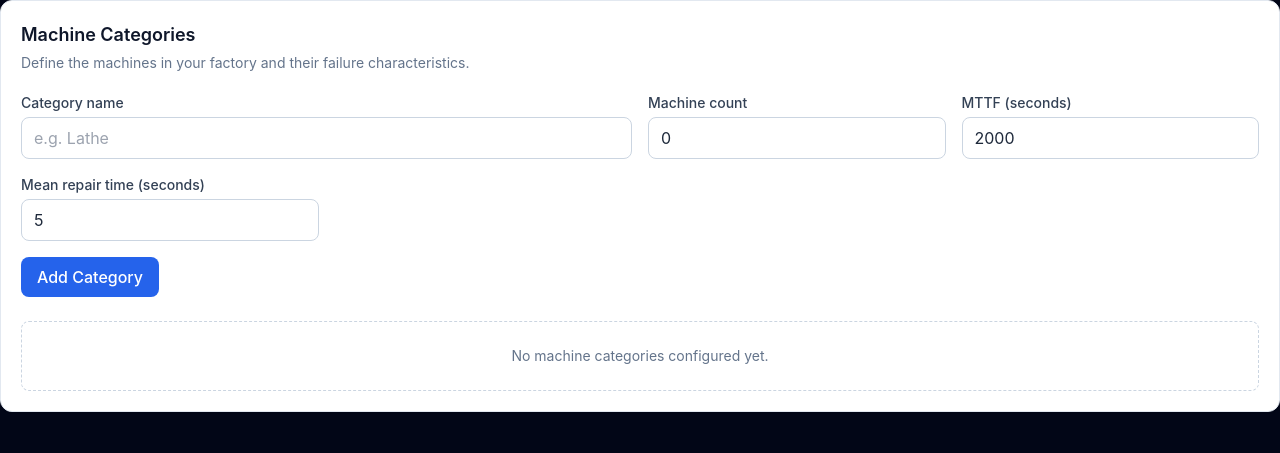
CategoryForm › rejects a non-positive MTTF
Type "Lathe" into the field labelled "Category name" at point(326, 138), box [21, 117, 632, 159]
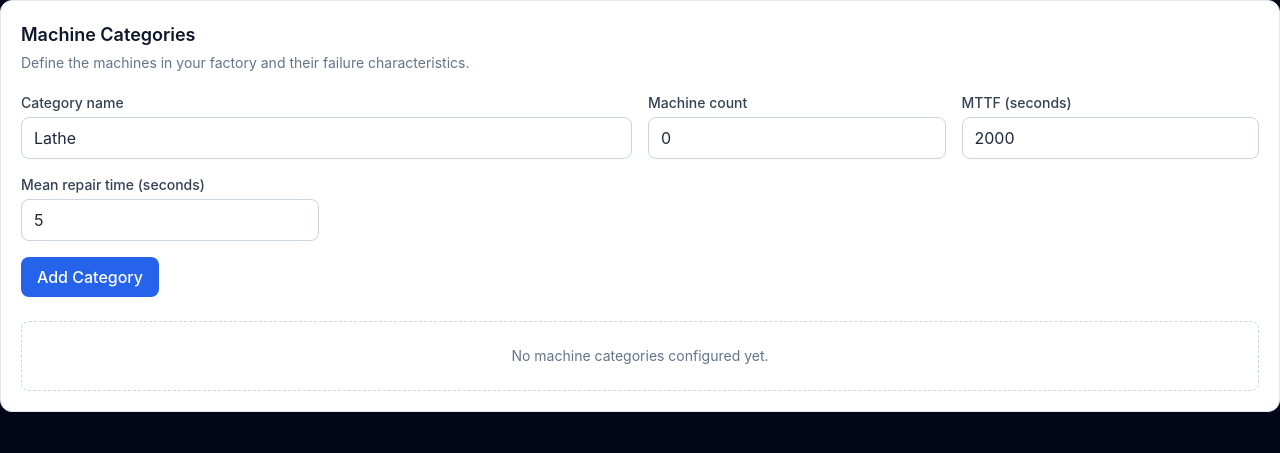
Replace the text in the number field labelled "MTTF (seconds)" with "0" at point(1110, 138), box [962, 117, 1259, 159]
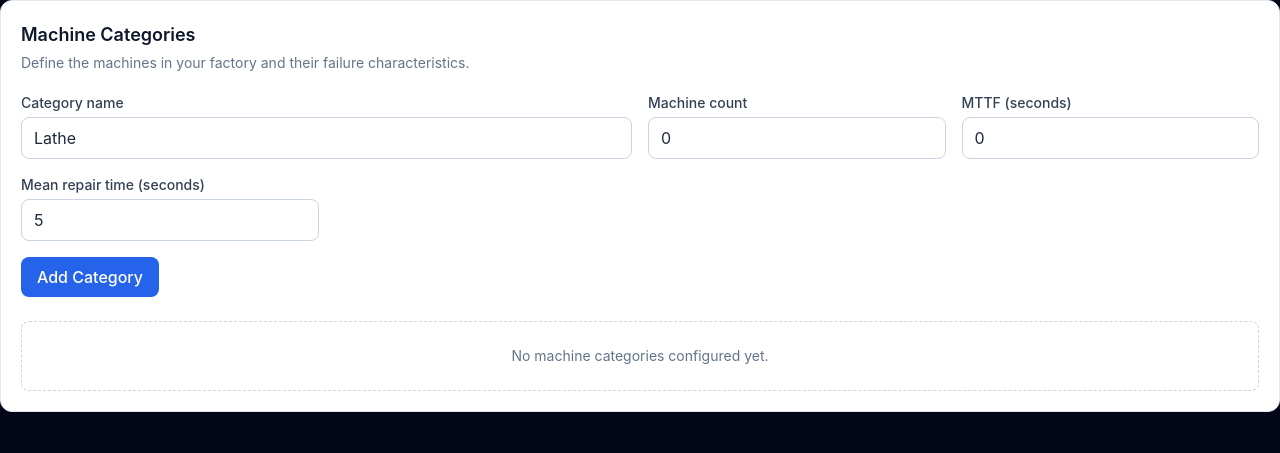
Click the button "Add Category" at point(90, 277), box [21, 257, 159, 297]
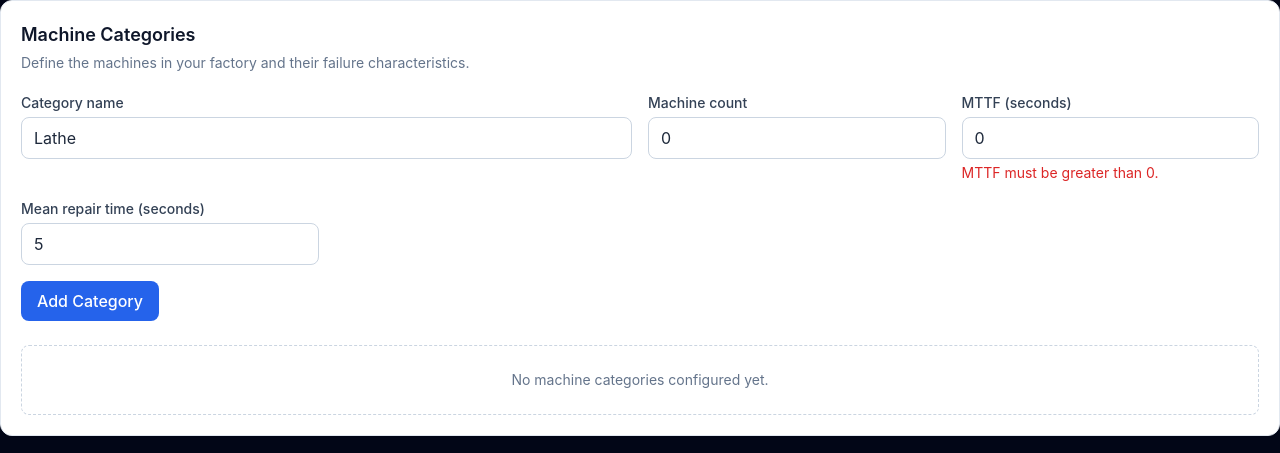
Now the text "MTTF must be greater than 0." is shown, box [962, 164, 1159, 181]
